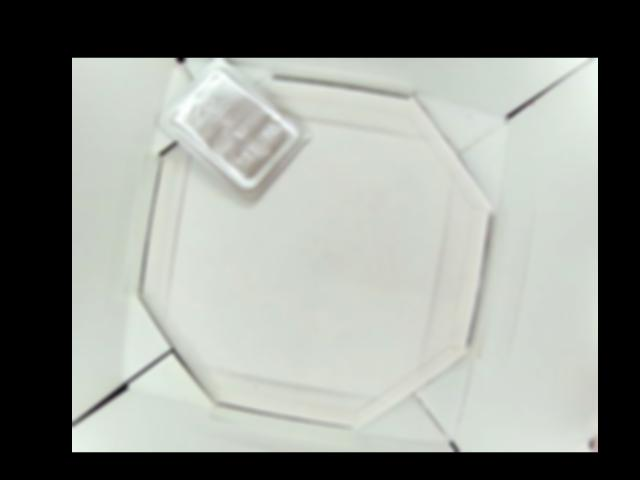Medicine: (154, 59, 312, 199)
